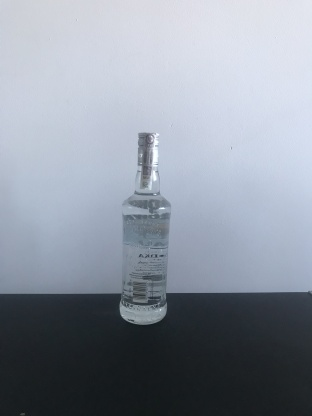nakretka: (135, 127, 161, 168)
